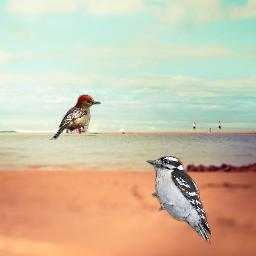Woodpecker: (146, 156, 211, 245), (49, 94, 102, 140)
